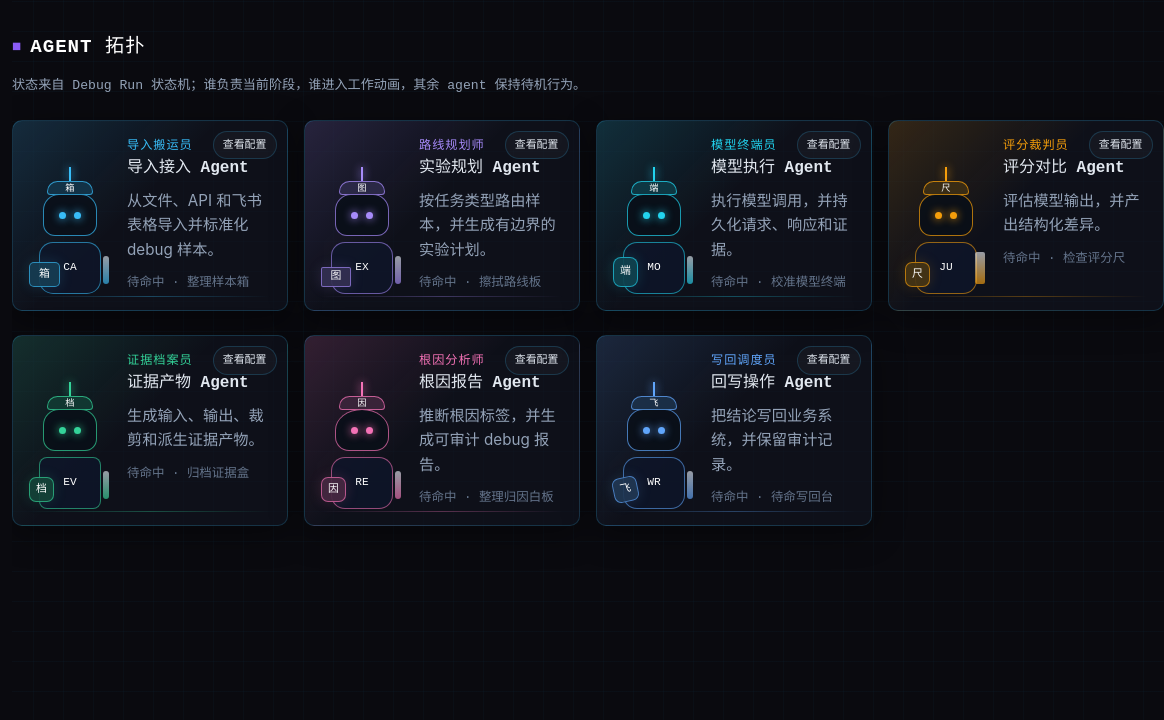
Scenario: AgentTopologyPanel › opens the configuration drawer for 实验规划 Agent
The image size is (1164, 720).
Click the button "查看配置" next to "路线规划师" at (537, 145), box [505,131,569,159]
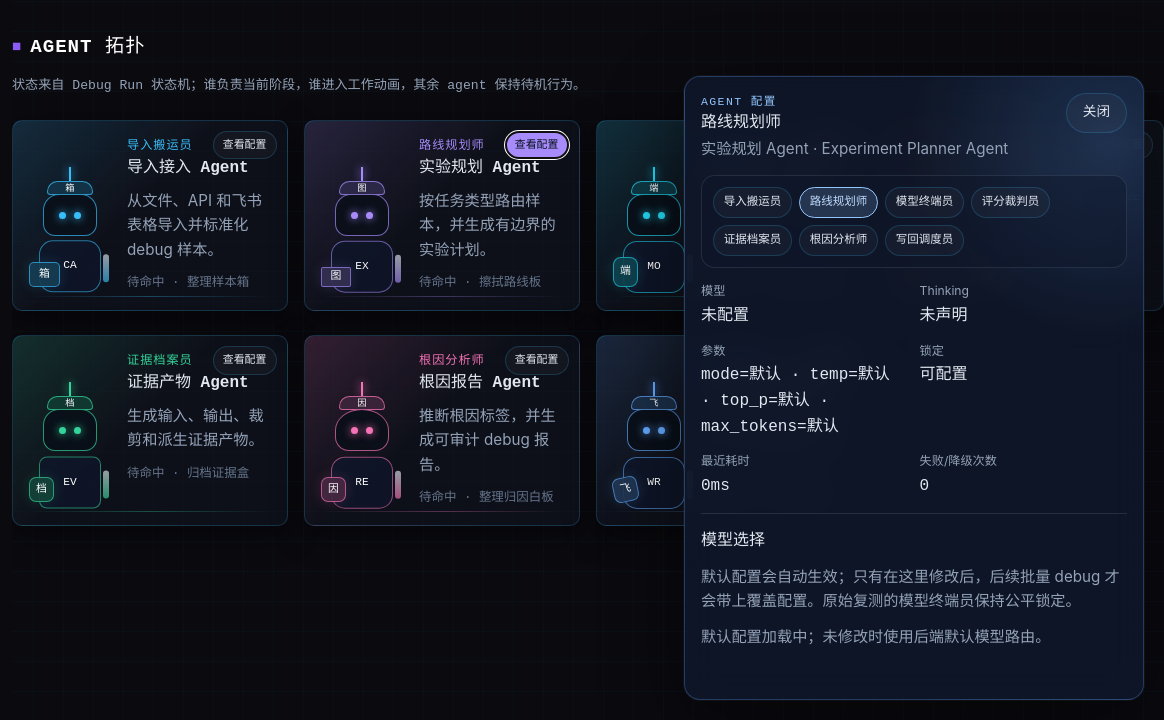
expect the element named "Agent 配置抽屉" is shown: met, box [684,76,1144,700]
expect the heading "路线规划师" is shown: met, box [701,114,781,132]
expect the text "实验规划 Agent · Experiment Planner Agent" is shown: met, box [701,137,1008,161]
